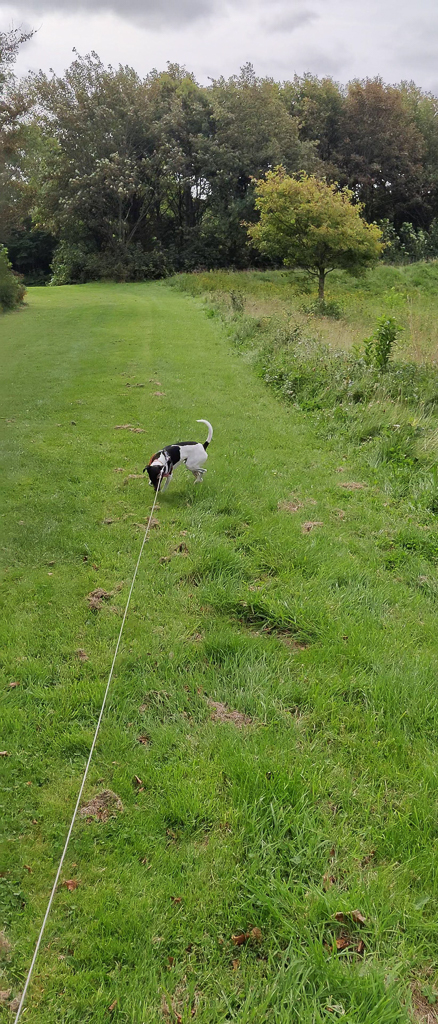Dog: (135, 415, 219, 496)
